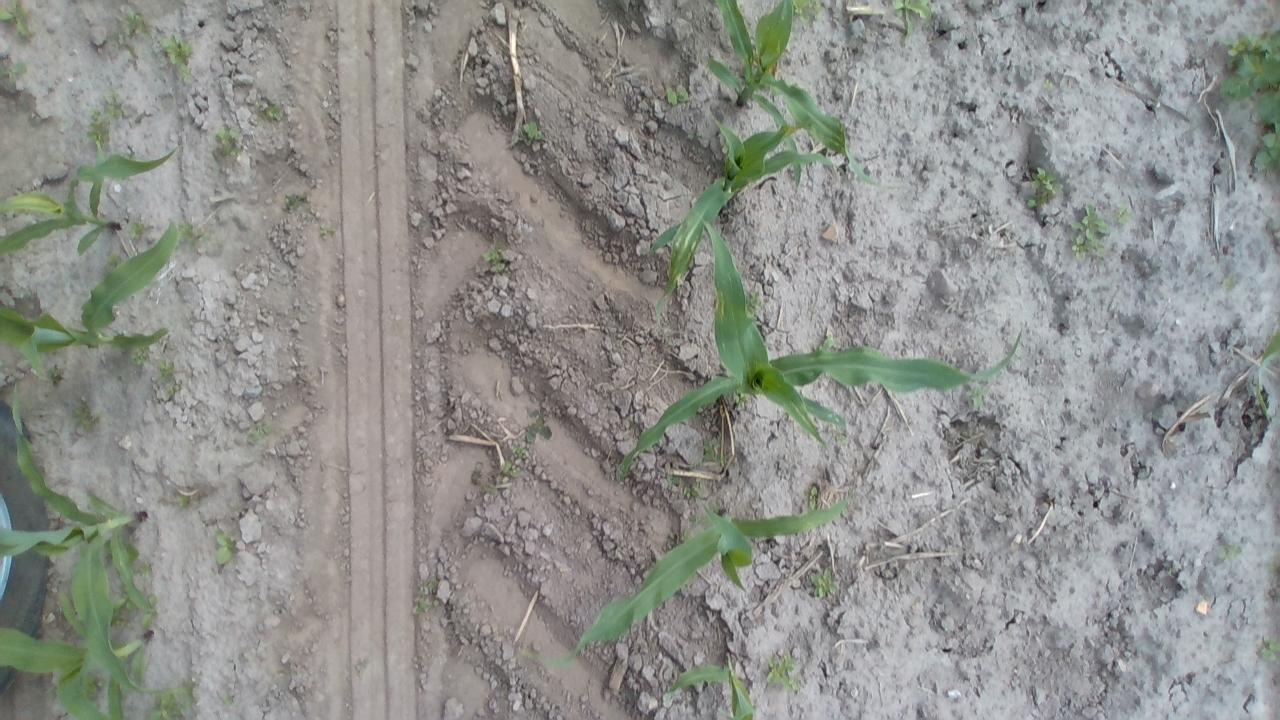Maize: (618, 214, 1028, 484), (530, 488, 852, 668), (0, 381, 151, 698), (648, 116, 846, 329), (702, 0, 907, 195), (0, 221, 180, 378), (0, 145, 175, 258), (0, 597, 150, 720), (672, 663, 753, 720), (1254, 319, 1280, 428)
Weeds: (1217, 24, 1280, 103), (1069, 204, 1109, 261), (146, 678, 194, 720), (892, 0, 932, 42), (1025, 168, 1064, 211), (764, 652, 802, 690), (0, 0, 32, 38), (1253, 122, 1280, 167), (160, 31, 192, 64), (524, 410, 554, 444), (1249, 91, 1280, 123), (88, 108, 113, 147), (809, 567, 838, 599), (214, 123, 242, 156), (696, 439, 729, 467), (414, 580, 440, 615), (119, 9, 149, 37), (213, 531, 236, 564), (790, 0, 823, 23), (0, 60, 30, 82), (514, 122, 544, 144), (964, 384, 990, 409), (83, 674, 106, 701), (101, 250, 126, 274), (103, 88, 122, 119), (743, 290, 764, 318), (141, 596, 159, 628), (113, 33, 136, 58), (258, 102, 286, 122), (73, 404, 96, 428), (666, 85, 691, 106), (1260, 636, 1280, 662), (482, 248, 504, 271), (110, 590, 135, 610), (250, 420, 274, 439), (812, 332, 834, 352), (1220, 544, 1244, 562), (124, 539, 140, 564), (176, 222, 194, 244), (684, 478, 703, 498), (1114, 204, 1132, 225), (132, 346, 150, 366), (44, 366, 61, 386), (282, 195, 302, 212), (157, 359, 175, 377), (501, 461, 520, 478), (130, 220, 146, 240), (162, 384, 182, 400), (112, 610, 128, 629), (1222, 274, 1236, 295), (734, 391, 749, 408), (179, 64, 193, 82), (808, 485, 818, 510), (690, 516, 710, 528), (138, 562, 152, 579), (512, 445, 528, 458), (836, 432, 848, 449), (665, 471, 679, 485), (319, 223, 332, 236), (708, 502, 722, 514), (197, 229, 210, 241), (176, 494, 189, 506), (104, 538, 112, 557), (680, 530, 692, 542), (722, 139, 730, 157), (222, 695, 234, 706), (1043, 79, 1053, 90)
